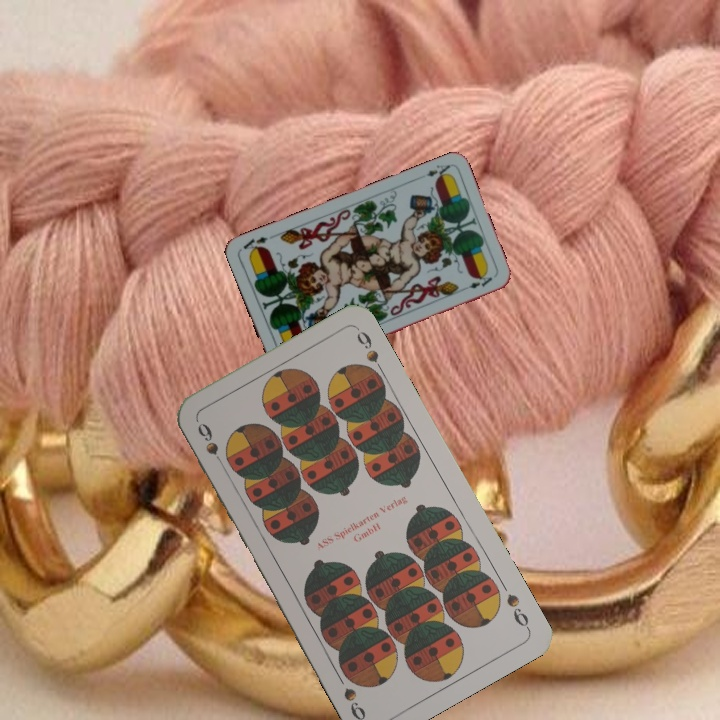EA: (422, 160, 453, 182)
S9: (193, 418, 227, 472), (502, 589, 533, 633)
